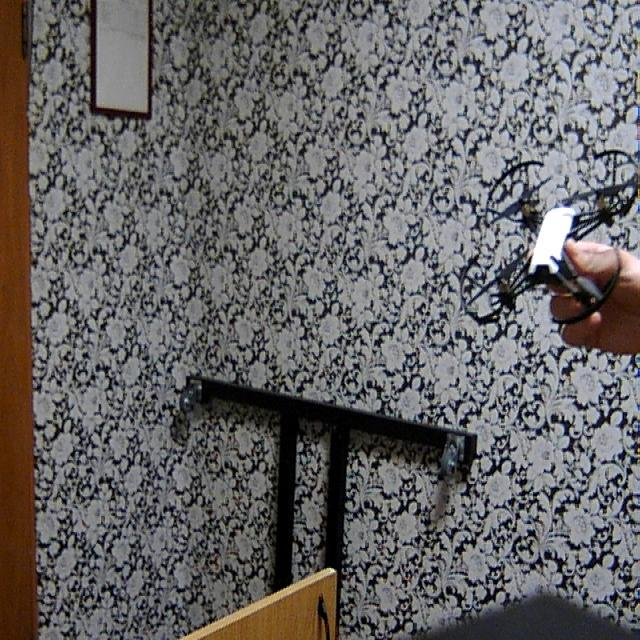drone: (450, 147, 640, 346)
